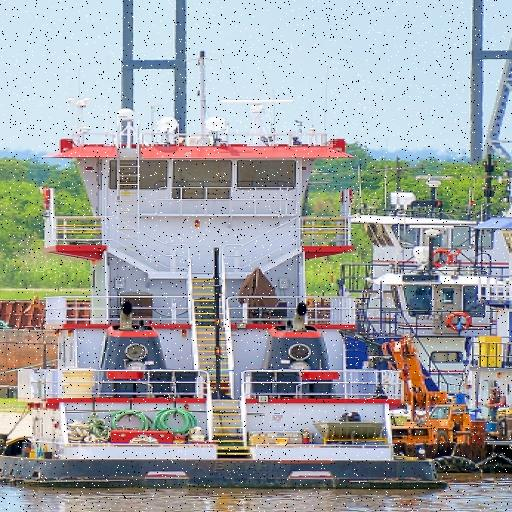tugboat: (1, 97, 452, 500)
